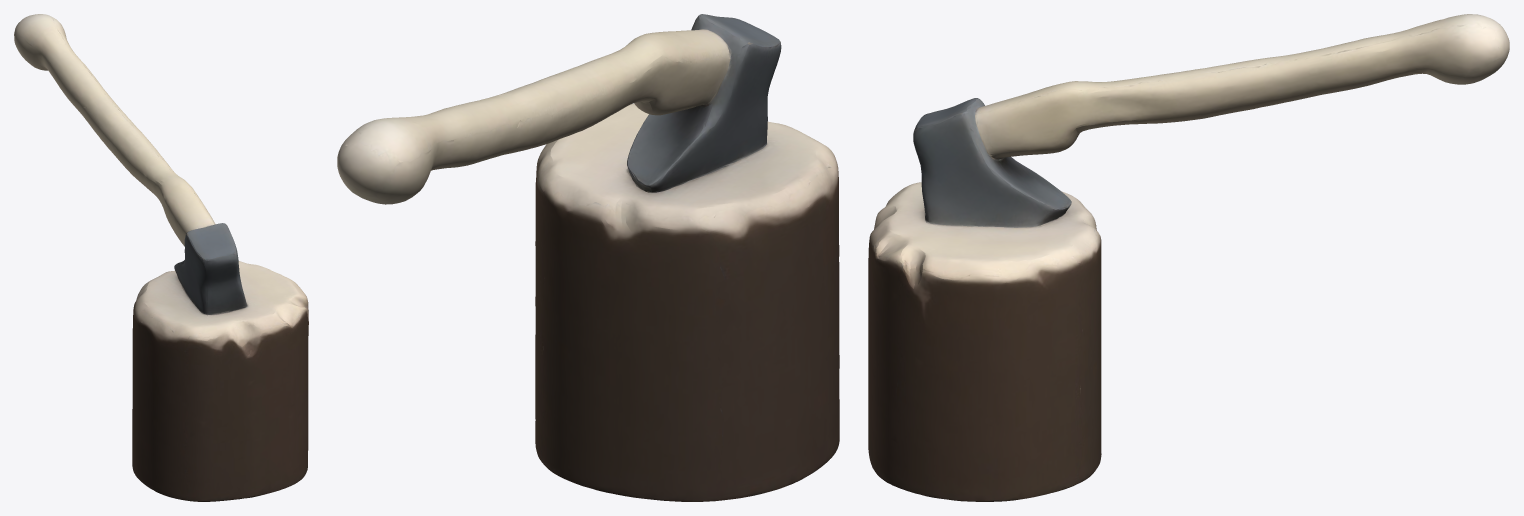
Rendered from chopping_stump_axe.glb.
The picture shows the model from 3 angles, left to right: view 1: azimuth 30°, elevation 25°; view 2: azimuth 150°, elevation 25°; view 3: azimuth 270°, elevation 25°; orthographic projection. The views are drawn at different scales.
Parts seen in each view (by area): view 1: chopping_stump_axe; view 2: chopping_stump_axe; view 3: chopping_stump_axe.
Boxes of the visible parts, x1=… form: chopping_stump_axe: x1=14, y1=14, x2=308, y2=501; chopping_stump_axe: x1=337, y1=14, x2=839, y2=501; chopping_stump_axe: x1=868, y1=14, x2=1509, y2=501.
Bounding box in the file's own units: 0.7195 × 1.43 × 1.91.
Materials: 1 (1 with a texture image).
